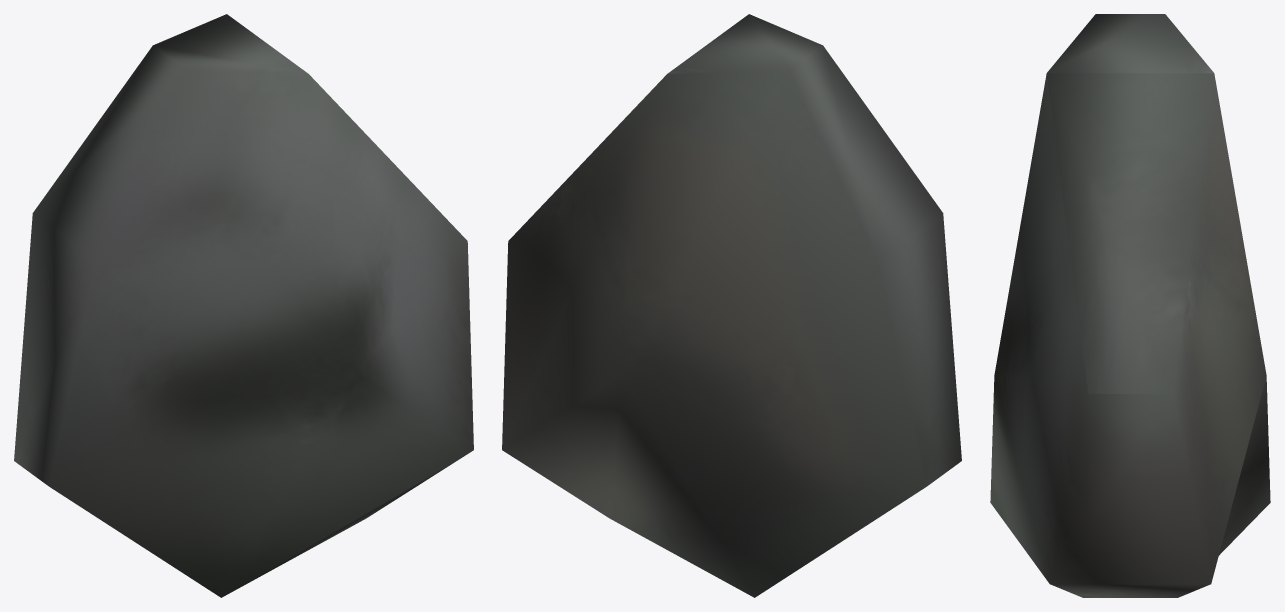
The model's file is Rock07.fbx.
3 renders of one model, left to right at view 1: azimuth 30°, elevation 25°; view 2: azimuth 150°, elevation 25°; view 3: azimuth 270°, elevation 25°, orthographic. The views are drawn at different scales.
Parts seen in each view (by area): view 1: Rock07; view 2: Rock07; view 3: Rock07.
Boxes of the visible parts, x1,y1,x2,y2 form: Rock07: [14, 14, 473, 597]; Rock07: [502, 14, 961, 597]; Rock07: [990, 14, 1270, 597].
Bounding box in the file's own units: 1.01 × 1.13 × 0.5764.
Materials: 1 (1 with a texture image).
